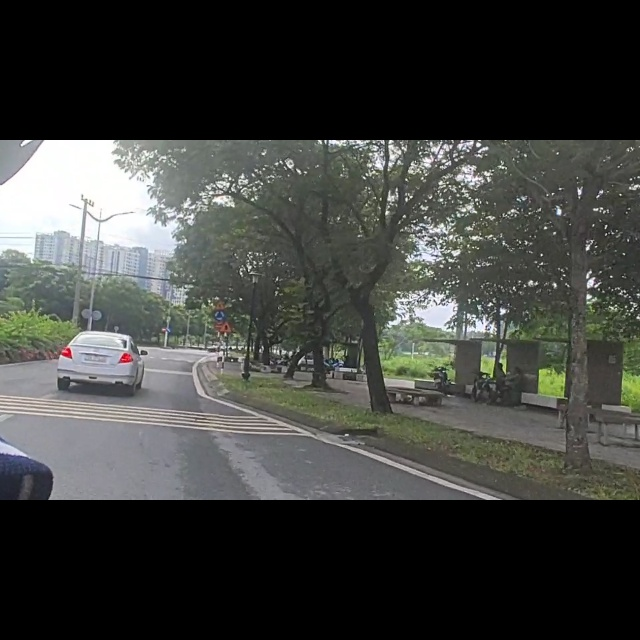bien_hieu_lenh: (219, 321, 234, 344), (214, 284, 225, 302), (214, 303, 225, 321), (167, 332, 173, 344), (161, 332, 166, 341)
